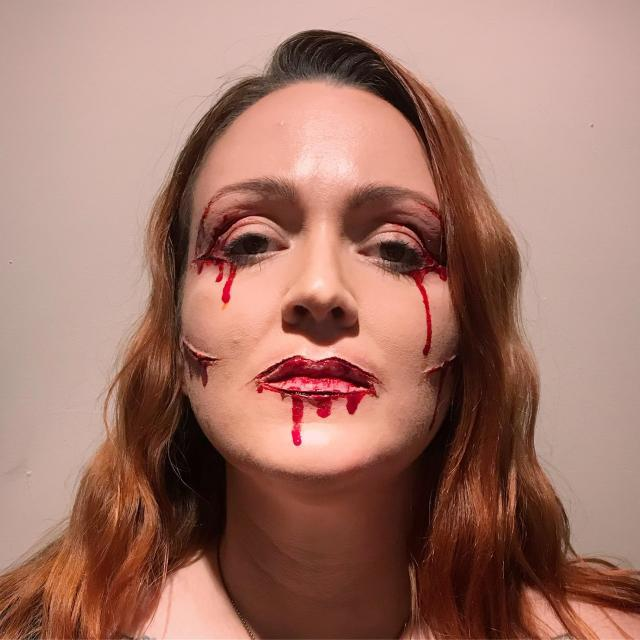flood: (252, 348, 384, 439), (385, 237, 464, 361), (184, 203, 266, 305)
